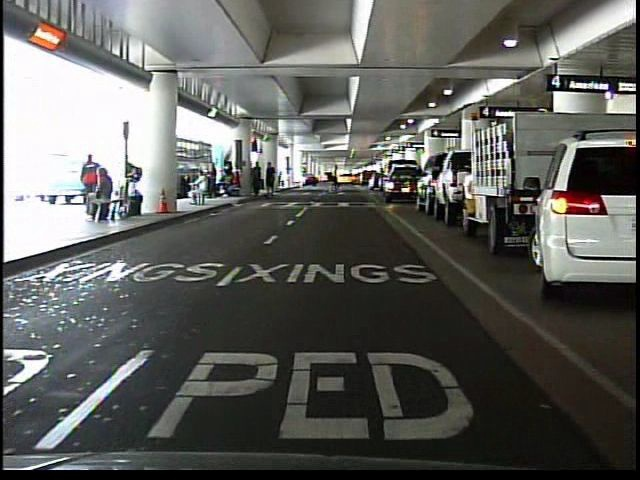person: (187, 171, 212, 208), (322, 163, 343, 196)
